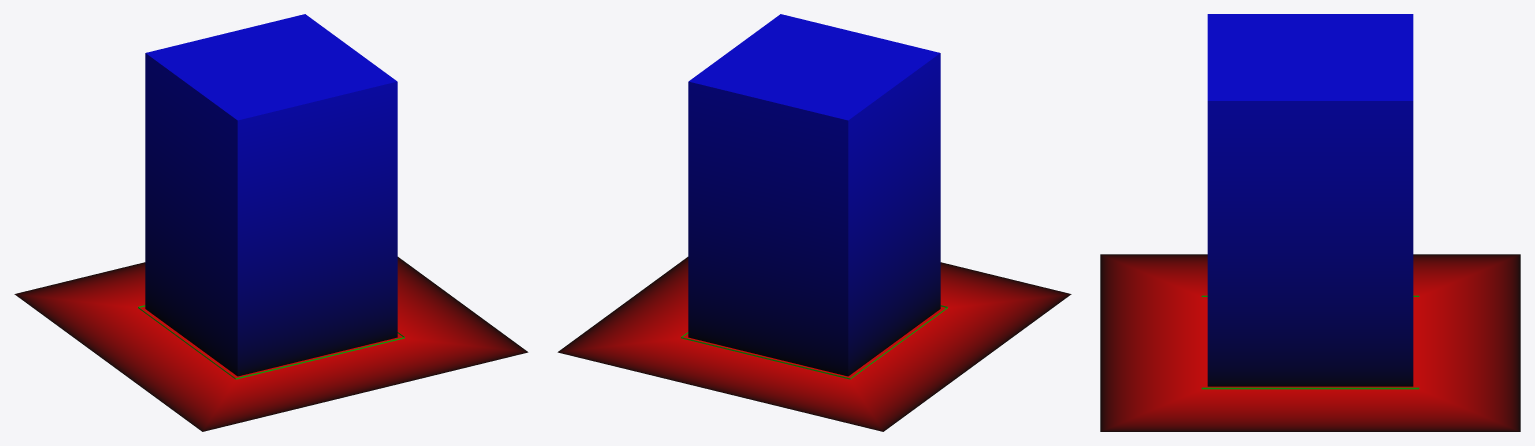
Rendered from CeilingHoleV3-Smaller.fbx.
3 renders of one model, left to right at view 1: azimuth 30°, elevation 25°; view 2: azimuth 150°, elevation 25°; view 3: azimuth 270°, elevation 25°, orthographic. The views are drawn at different scales.
Visible parts, largest first — view 1: CeilingHoleV3_Smaller; view 2: CeilingHoleV3_Smaller; view 3: CeilingHoleV3_Smaller.
Boxes of the visible parts, bbox=[...] form: CeilingHoleV3_Smaller: bbox=[14, 14, 528, 431]; CeilingHoleV3_Smaller: bbox=[557, 14, 1071, 431]; CeilingHoleV3_Smaller: bbox=[1100, 14, 1520, 431].
Bounding box in the file's own units: 200 × 154 × 200.
